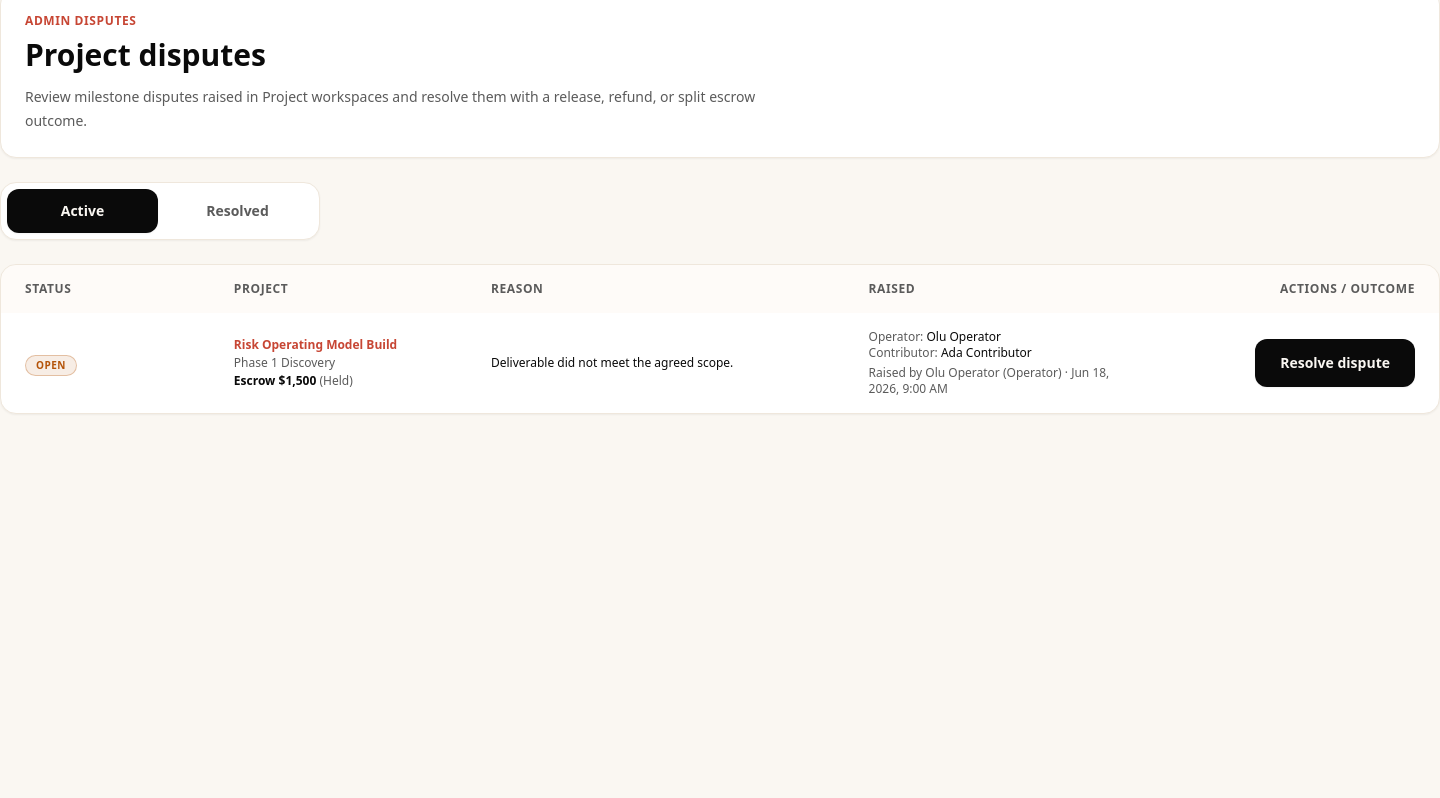
Test: AdminDisputesPanel › keeps the confirm button disabled until notes are entered
The width and height of the screenshot is (1440, 798).
Click the button "Resolve dispute". click: coordinates (1335, 363)
box: [1255,339,1415,387]
(page scrolled)
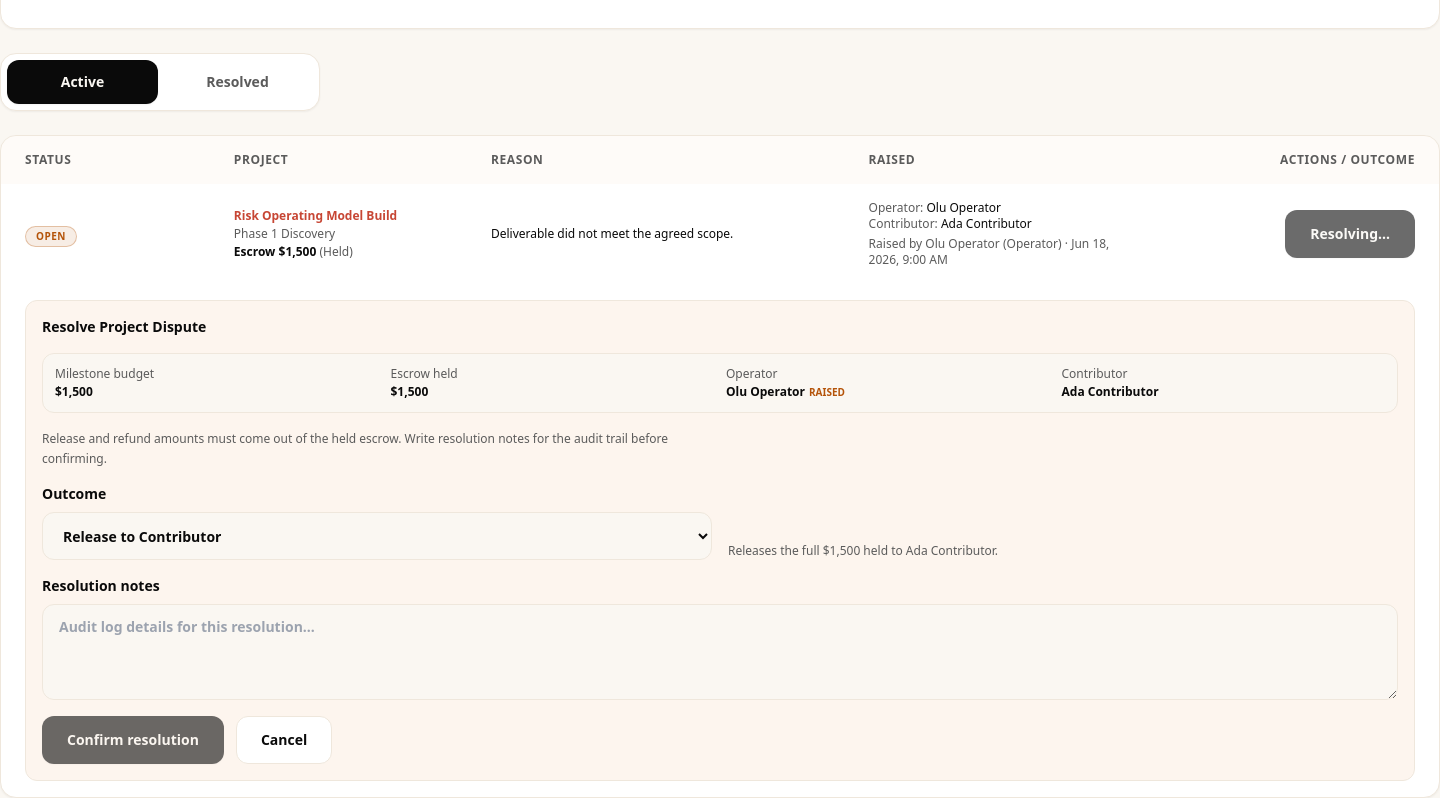
Expected: the button "Confirm resolution" is disabled, [42,716,224,764]
